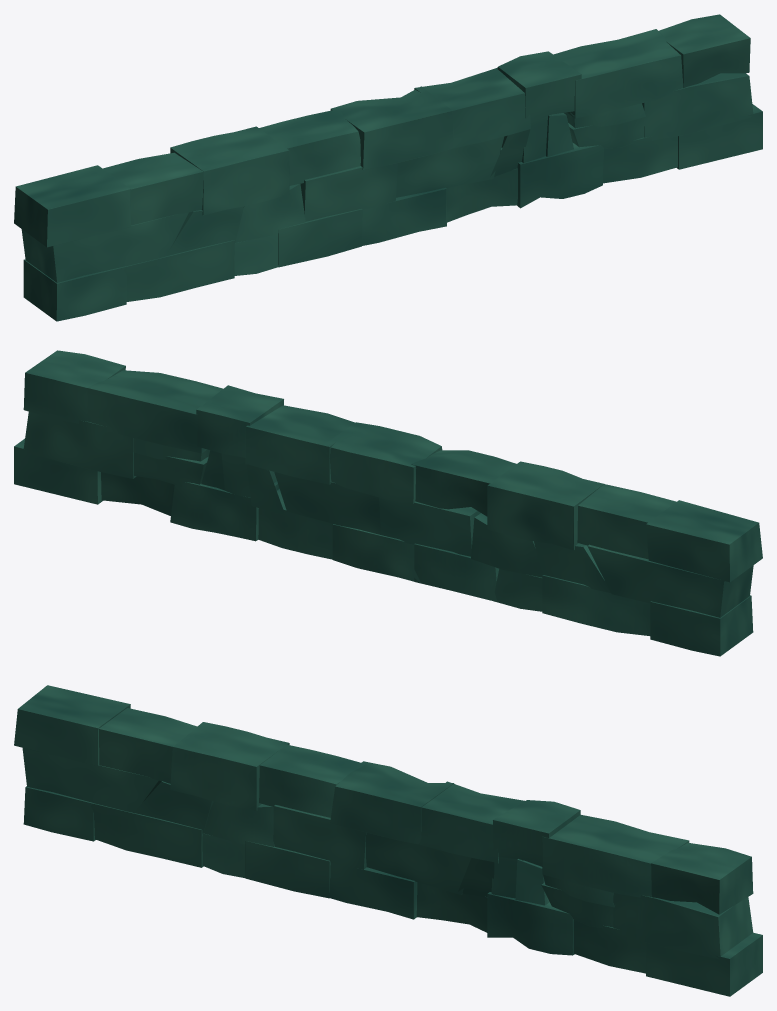
Rendered from stoneWall.glb.
3 views of the same model, one above another, from view 1: azimuth 30°, elevation 25°; view 2: azimuth 150°, elevation 25°; view 3: azimuth 330°, elevation 25° (orthographic).
Parts seen in each view (by area): view 1: wallHP3x3.001; view 2: wallHP3x3.001; view 3: wallHP3x3.001.
Boxes of the visible parts, left/top/right/bottom form: wallHP3x3.001: left=14, top=14, right=762, bottom=321; wallHP3x3.001: left=14, top=350, right=762, bottom=656; wallHP3x3.001: left=14, top=685, right=762, bottom=996.
Size of the model in its own units: 28.72 by 4.61 by 2.52.
Materials: 1 (1 with a texture image).
